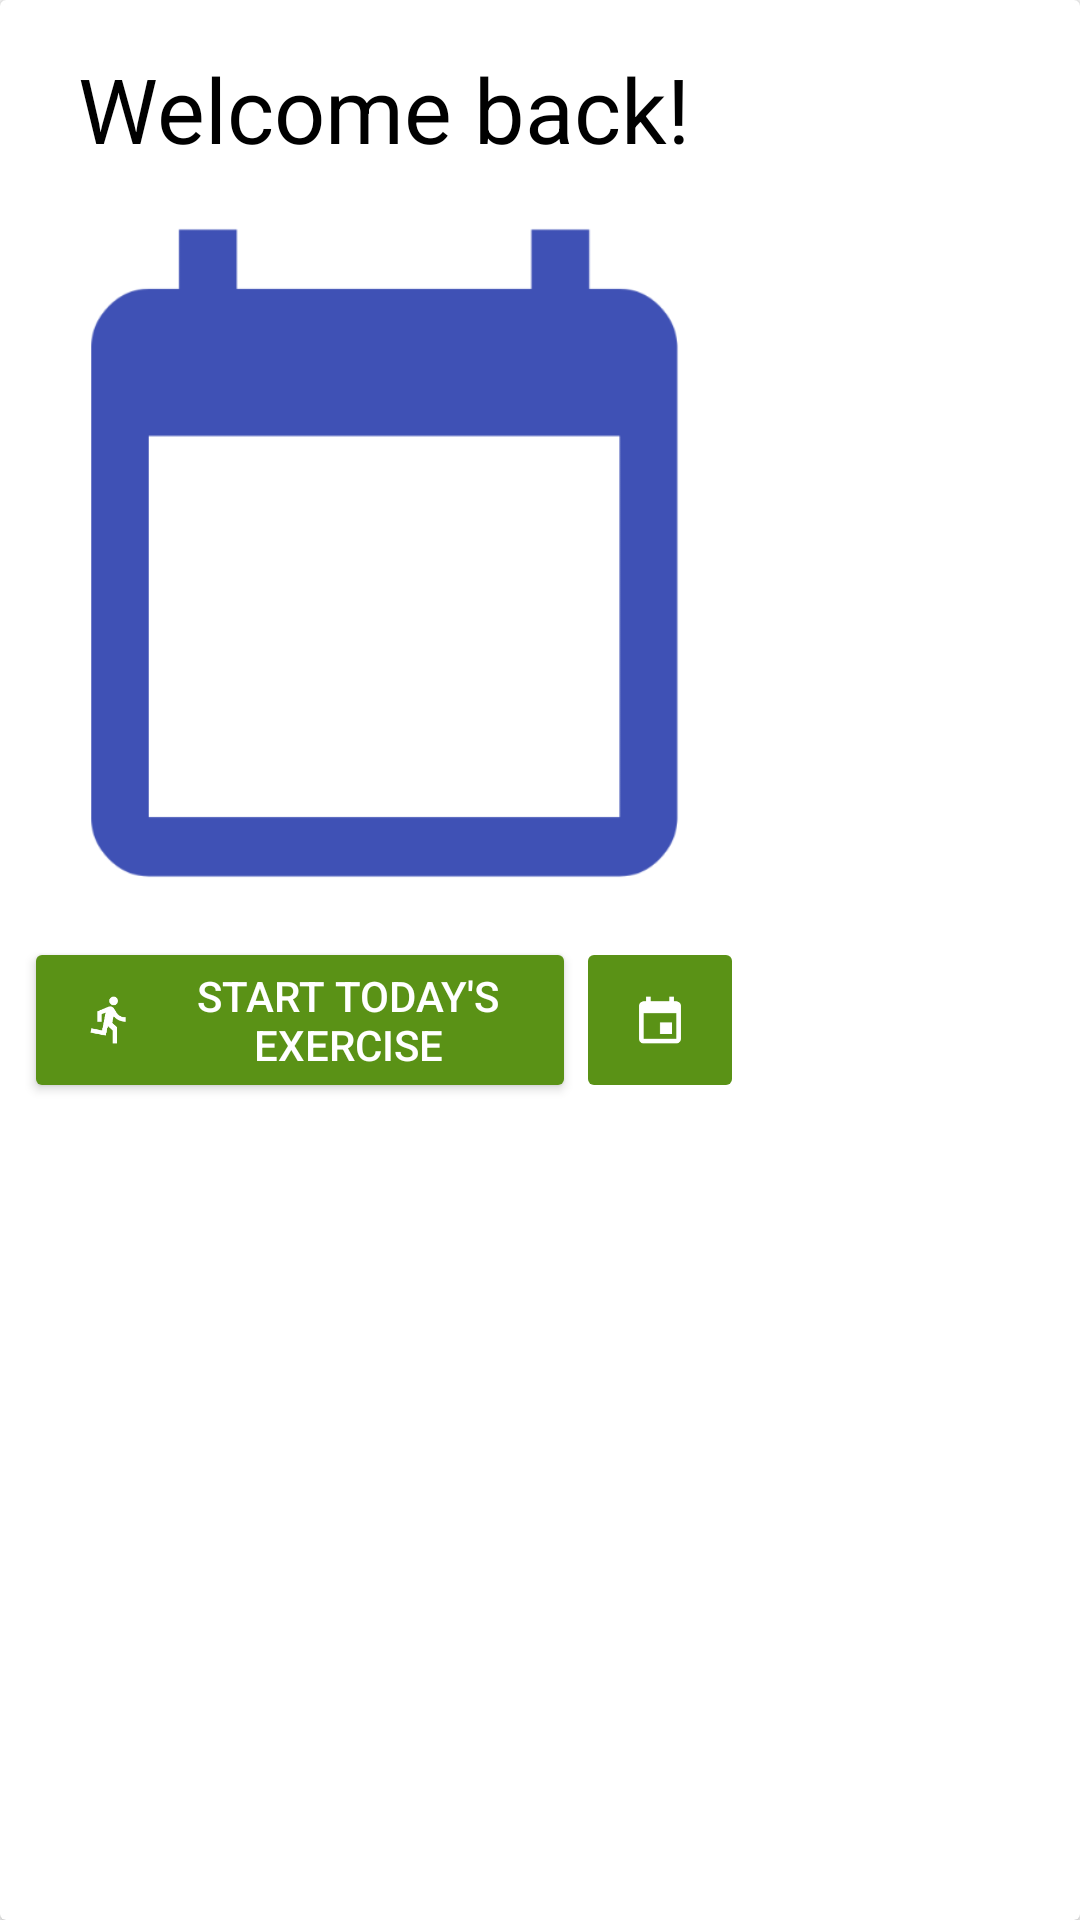

Named icons in this screenshot (1080*1920) and their bounding boxes, (x1, y1, x2, y2):
event: (588, 955, 732, 1085)
